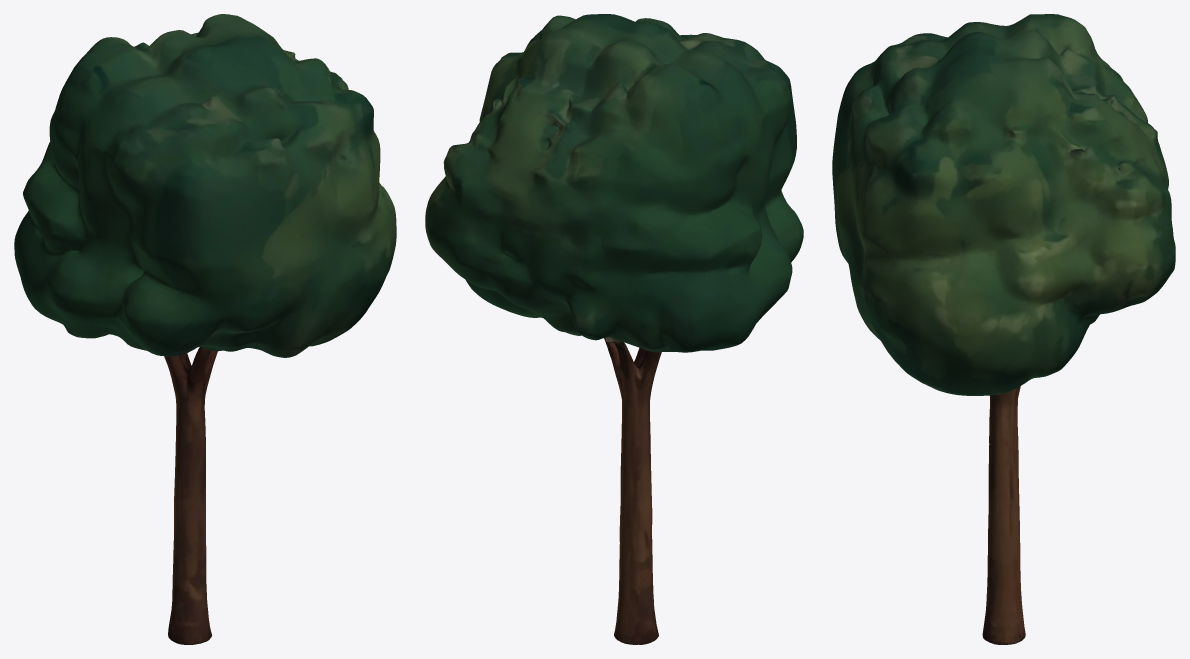
File: tree.glb
3 views of the same model, side by side, from view 1: azimuth 30°, elevation 25°; view 2: azimuth 150°, elevation 25°; view 3: azimuth 270°, elevation 25° (orthographic).
Visible parts, largest first — view 1: tree; view 2: tree; view 3: tree.
Boxes of the visible parts, x1,y1,x2,y2 form: tree: (14, 14, 396, 644); tree: (425, 14, 803, 644); tree: (832, 14, 1175, 644).
Size of the model in its own units: 2.37 by 4.2 by 2.18.
Materials: 1 (1 with a texture image).
